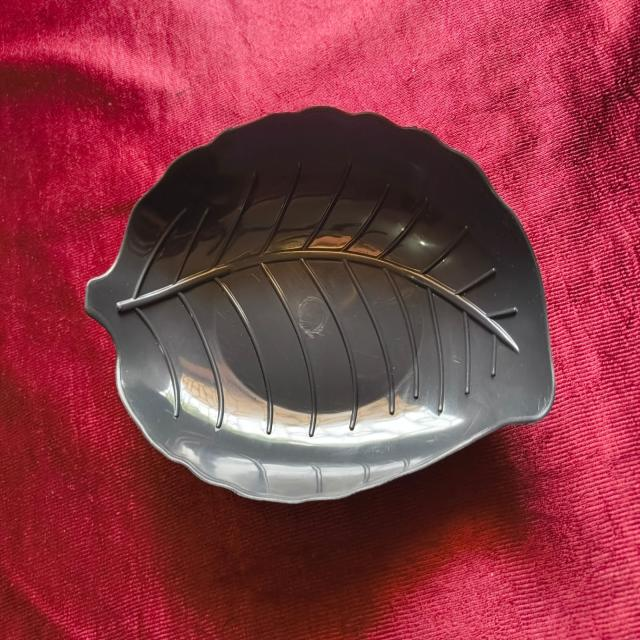pen: (76, 92, 564, 522)
